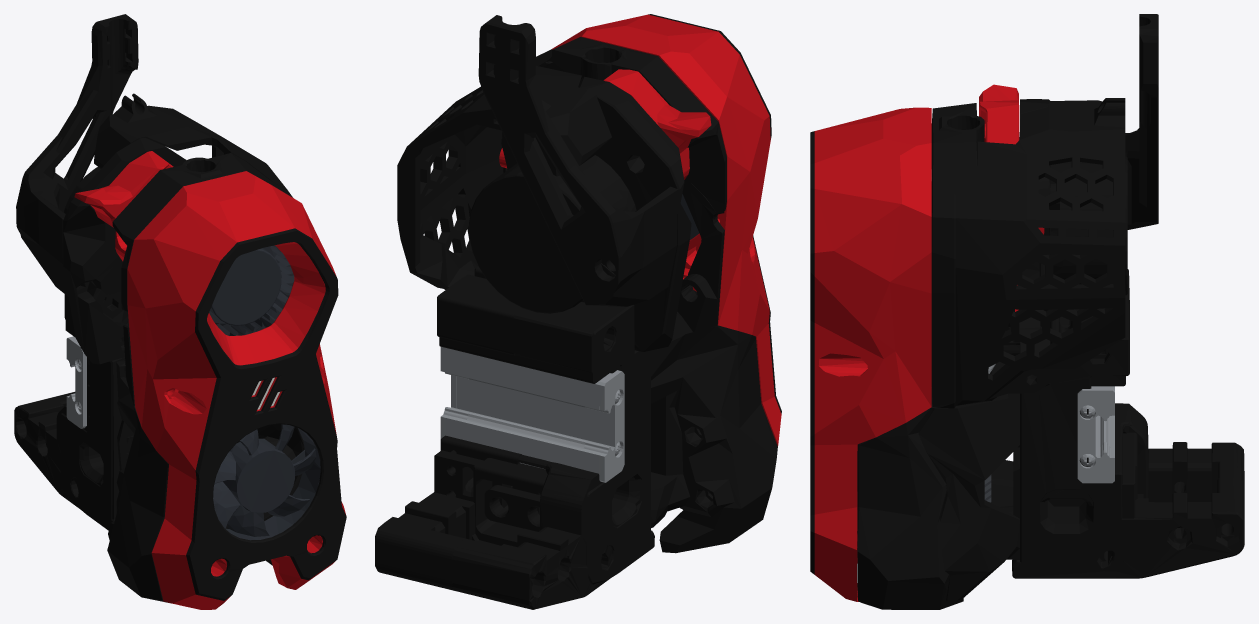
The model's file is stealthburner.glb.
3 views of the same model, side by side, from view 1: azimuth 30°, elevation 25°; view 2: azimuth 150°, elevation 25°; view 3: azimuth 270°, elevation 25° (orthographic). The views are drawn at different scales.
Parts seen in each view (by area): view 1: toolhead__141518, toolhead__c4161c, toolhead__2c2f34, toolhead__8c9096; view 2: toolhead__141518, toolhead__c4161c, toolhead__8c9096; view 3: toolhead__141518, toolhead__c4161c, toolhead__8c9096.
Boxes of the visible parts, left/top/right/bottom form: toolhead__141518: left=14, top=14, right=346, bottom=603; toolhead__c4161c: left=74, top=151, right=345, bottom=609; toolhead__2c2f34: left=209, top=245, right=320, bottom=540; toolhead__8c9096: left=66, top=336, right=86, bottom=428; toolhead__141518: left=375, top=14, right=781, bottom=609; toolhead__c4161c: left=499, top=14, right=781, bottom=446; toolhead__8c9096: left=440, top=346, right=624, bottom=482; toolhead__141518: left=810, top=14, right=1244, bottom=609; toolhead__c4161c: left=814, top=84, right=1044, bottom=601; toolhead__8c9096: left=988, top=364, right=1114, bottom=483.
Bounding box in the file's own units: 71.07 × 158 × 112.
